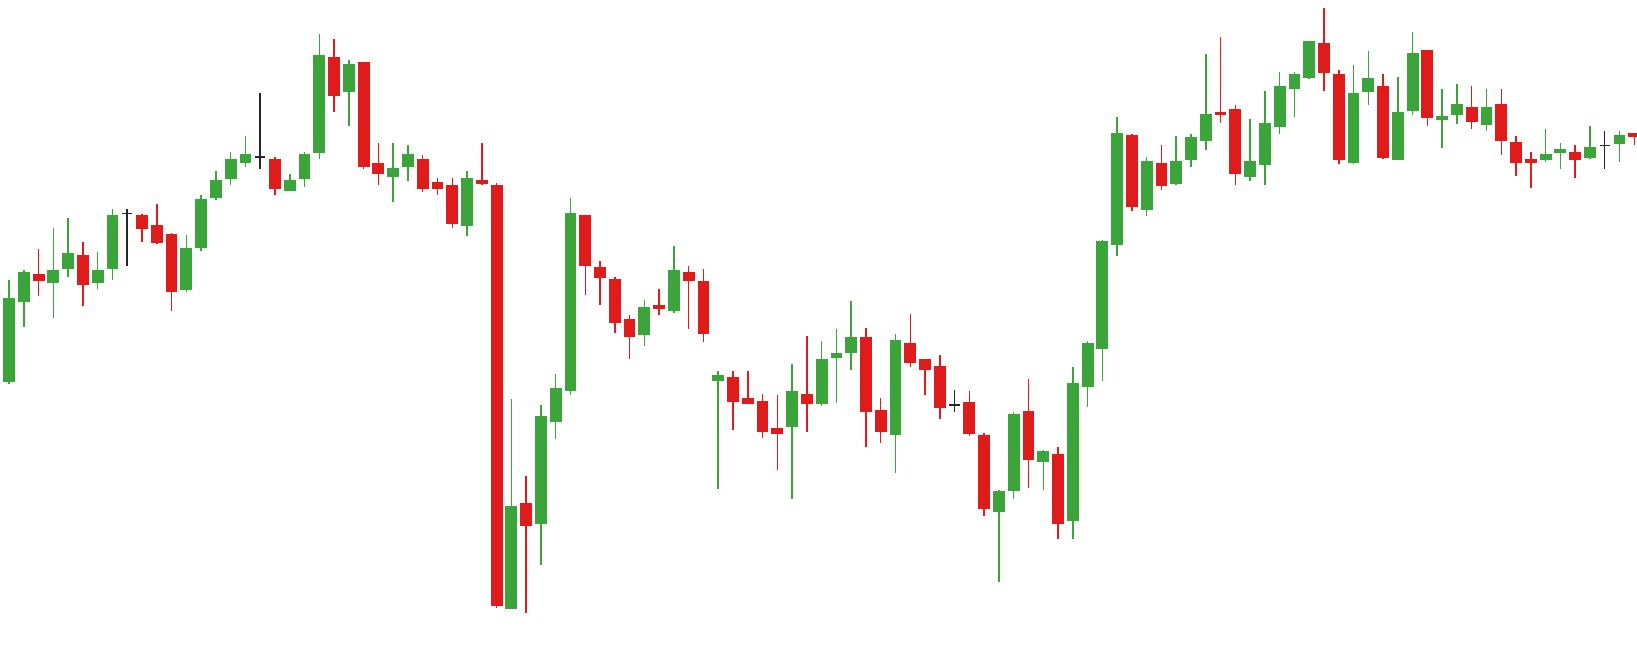sell: (1212, 6, 1332, 137), (254, 36, 339, 152)
